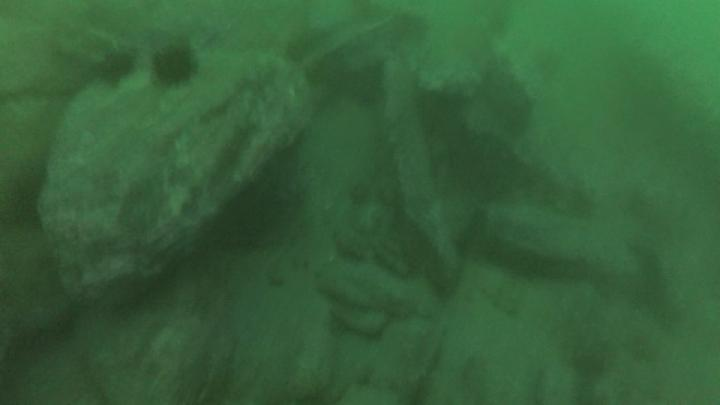echinus: (156, 50, 196, 85), (97, 54, 135, 85)
holothurian: (373, 240, 413, 278), (336, 228, 367, 259)
